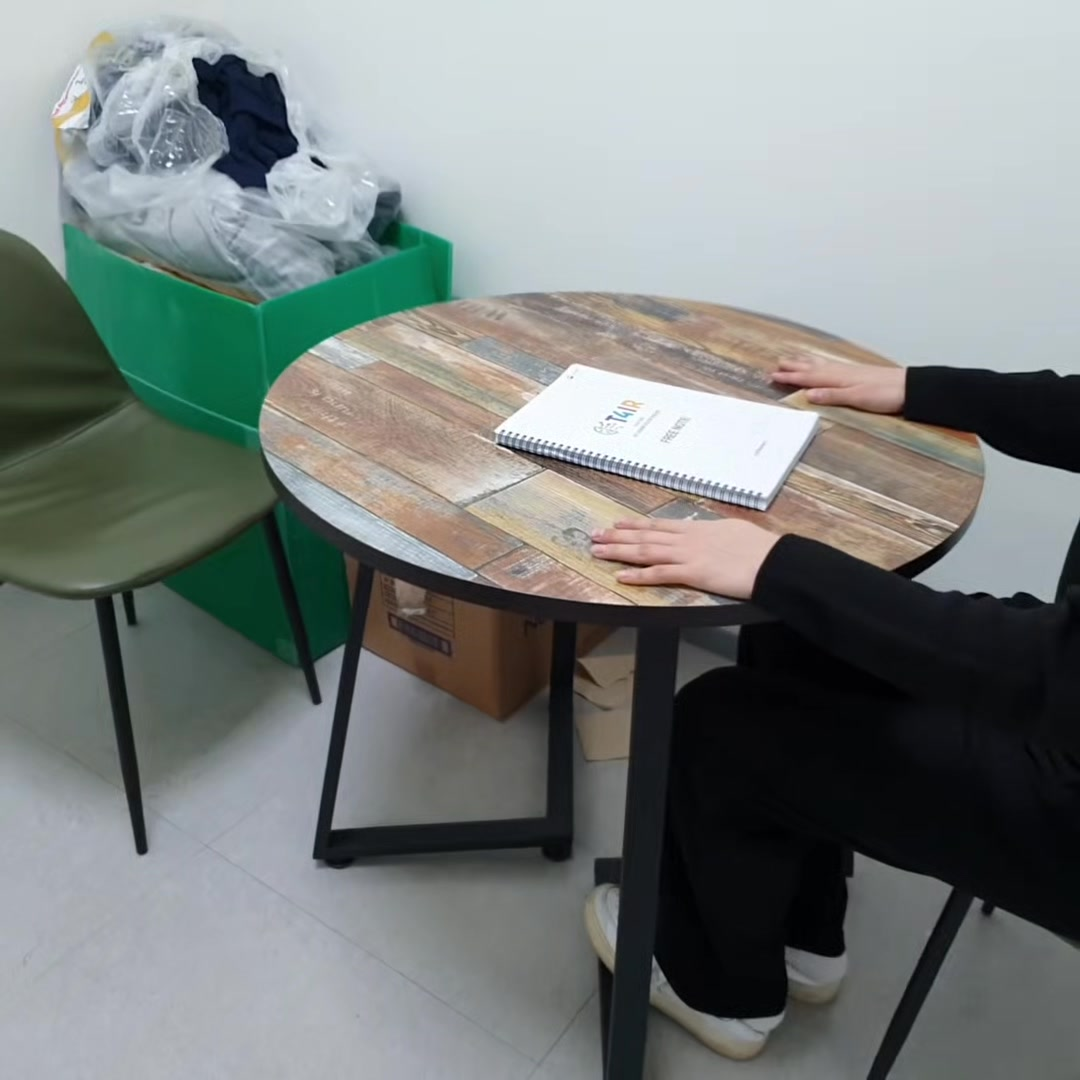book: (489, 361, 822, 517)
